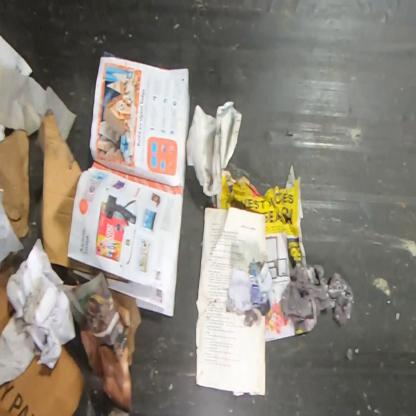cardboard: (36, 108, 132, 284), (0, 344, 86, 415), (0, 129, 31, 240), (0, 254, 17, 338)
soft_plastic: (281, 264, 355, 326)
